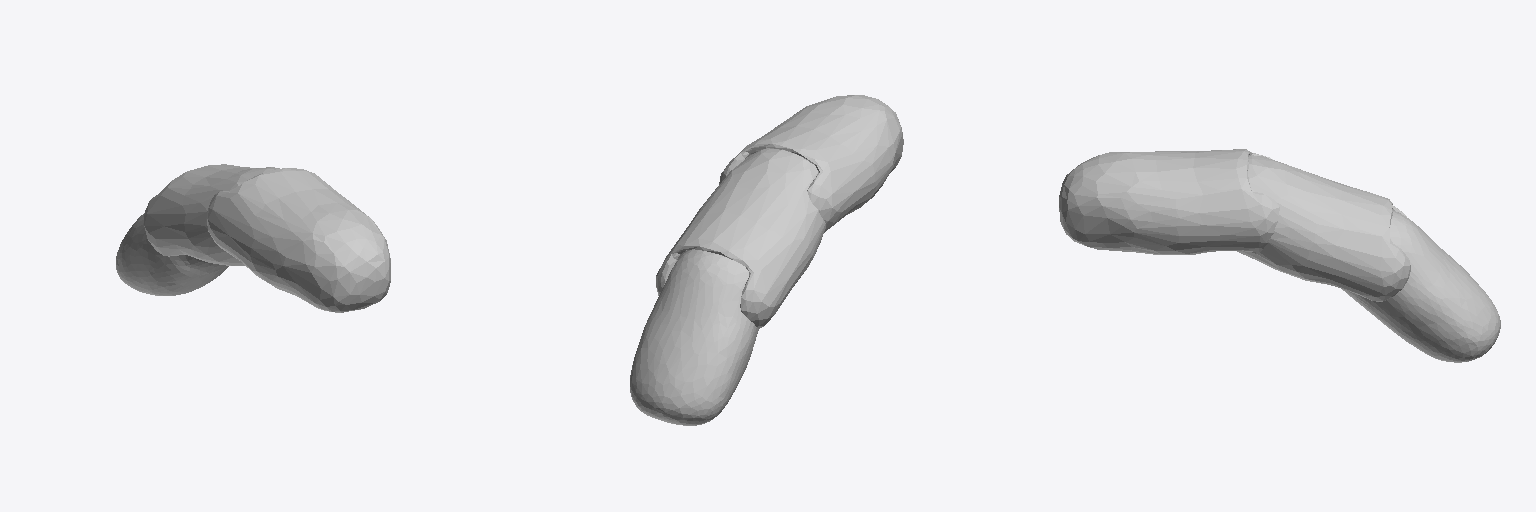
File: thumb.obj
The picture shows the model from 3 angles: view 1: azimuth 30°, elevation 25°; view 2: azimuth 150°, elevation 25°; view 3: azimuth 270°, elevation 25°; orthographic projection.
Visible parts, largest first — view 1: thumb_seg_M.010; view 2: thumb_seg_M.010; view 3: thumb_seg_M.010.
Boxes of the visible parts, x1,y1,x2,y2 form: thumb_seg_M.010: [116, 164, 390, 312]; thumb_seg_M.010: [630, 95, 903, 425]; thumb_seg_M.010: [1059, 149, 1500, 362].
Bounding box in the file's own units: 18.28 × 30.27 × 61.35.